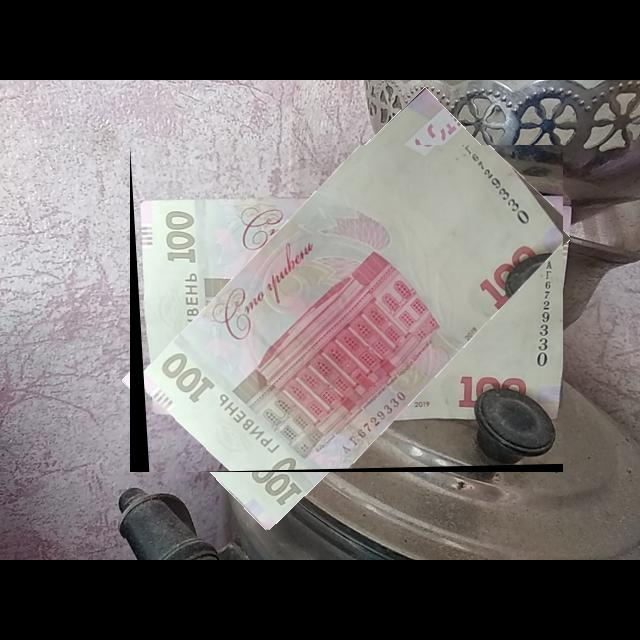100uah: (130, 145, 564, 473)
